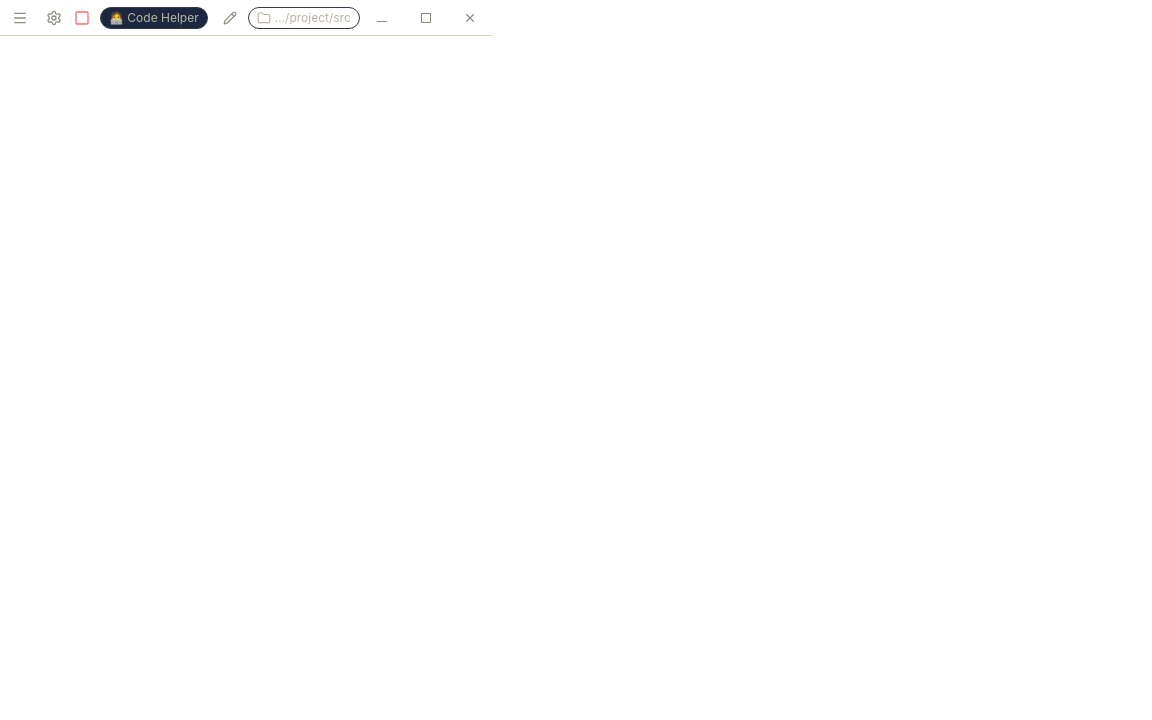
it: TitleBar — Directory breadcrumb › tb-20: clicking breadcrumb opens DirectoryPicker
Click the button with aria-label "change directory" at (304, 18), box [248,6,360,28]
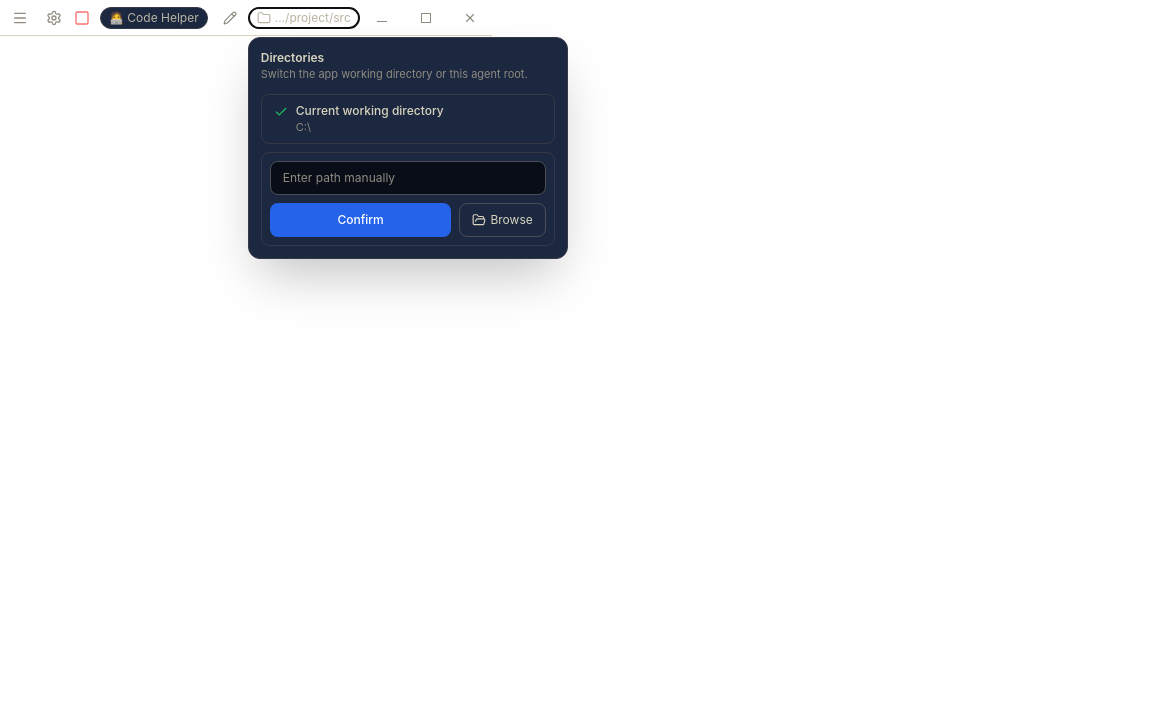
Now the dialog named "directory picker" is shown, box [248,36,568,259]
